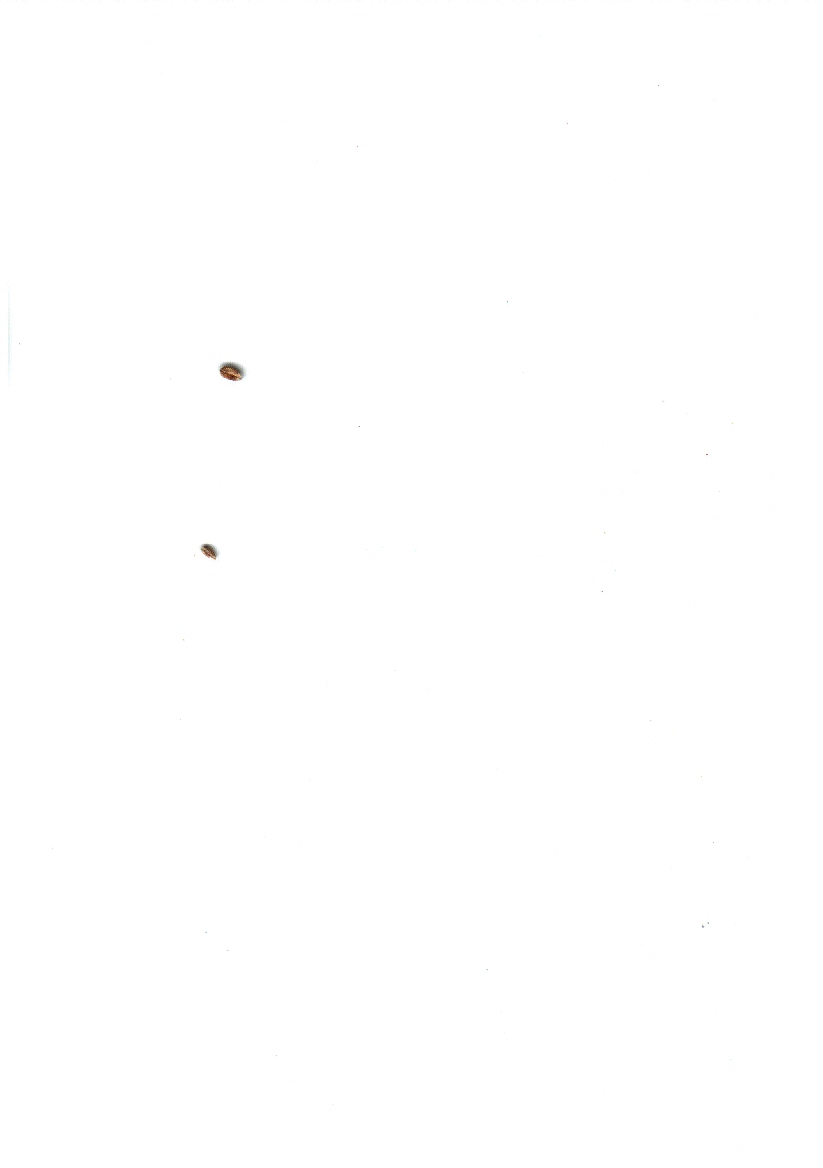grains: (211, 345, 254, 399), (189, 527, 224, 575)
